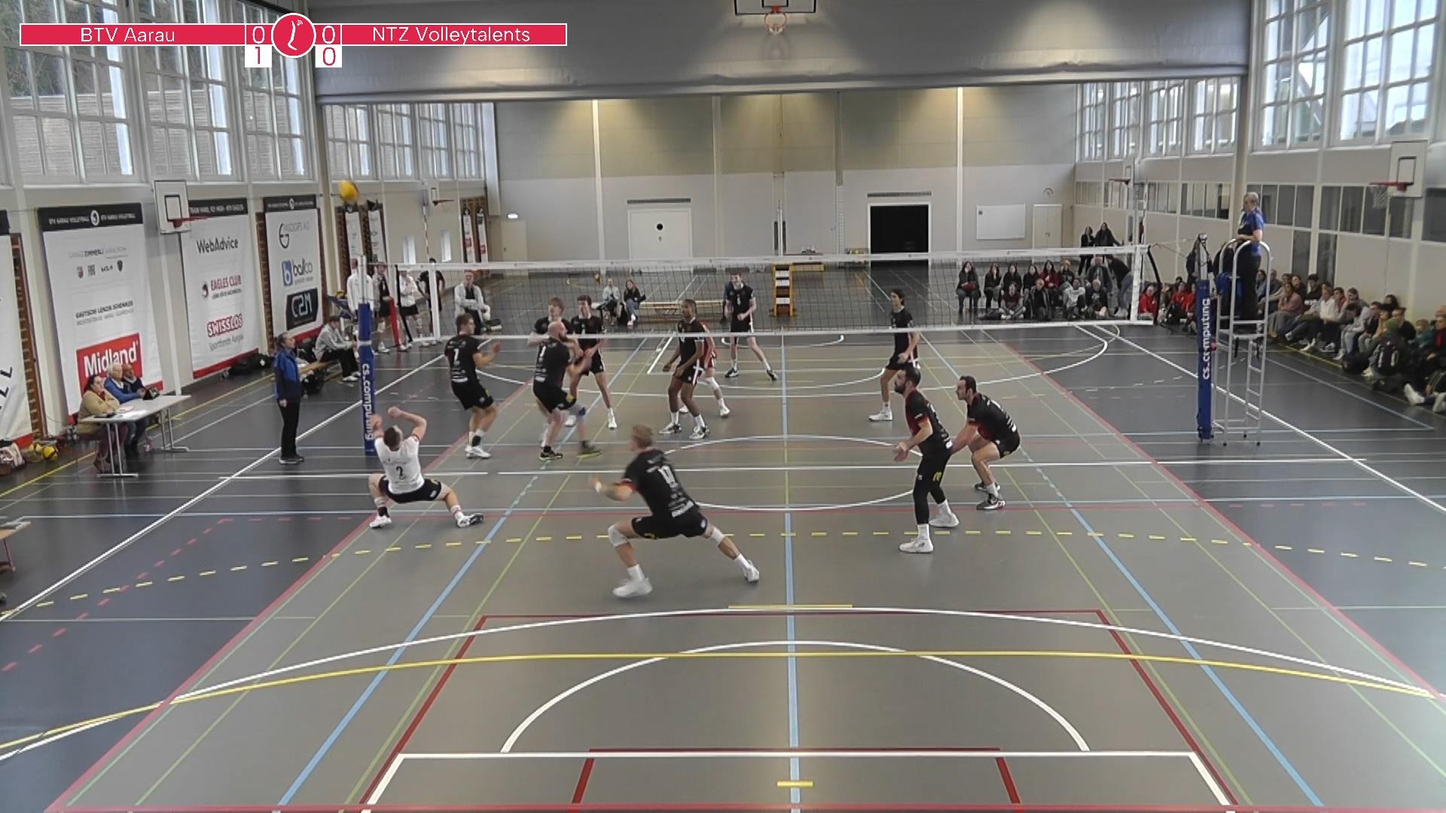Dig: (367, 408, 488, 537)
Player: (590, 425, 759, 598), (894, 366, 959, 553), (533, 321, 601, 461), (952, 375, 1020, 510), (444, 312, 497, 458), (661, 299, 709, 439), (870, 288, 920, 422), (569, 294, 616, 429), (725, 273, 776, 381), (699, 319, 730, 418), (533, 297, 563, 336)
ball: (334, 176, 361, 205)
